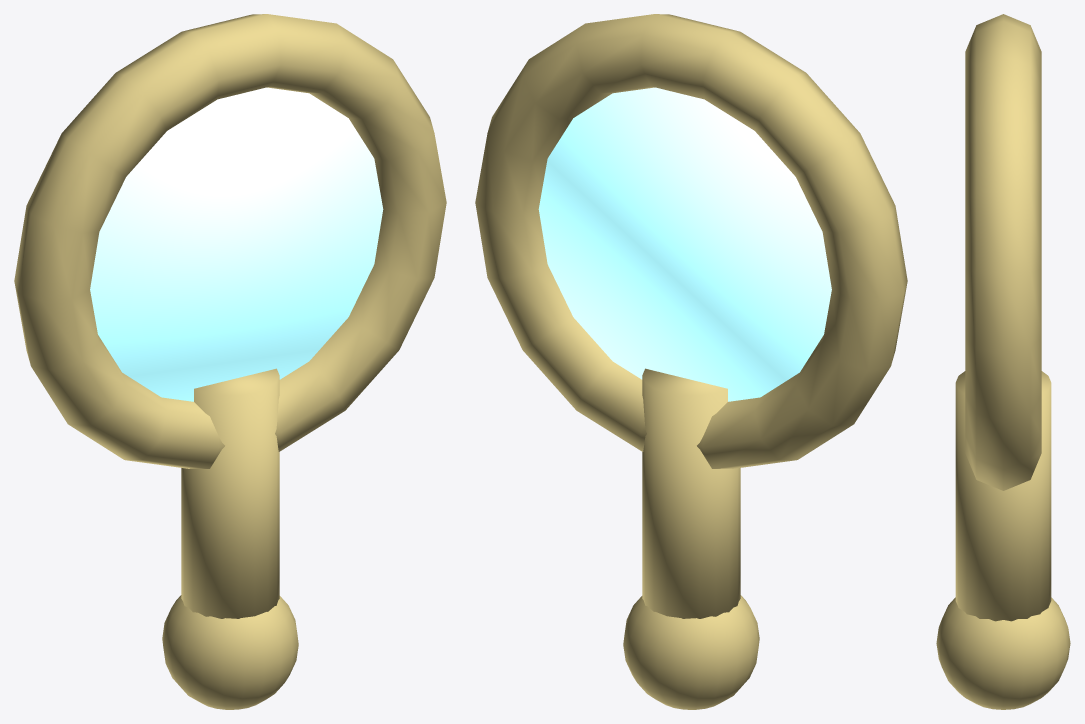
The model's file is Prop_ScanArea.fbx.
The picture shows the model from 3 angles, left to right: view 1: azimuth 30°, elevation 25°; view 2: azimuth 150°, elevation 25°; view 3: azimuth 270°, elevation 25°; orthographic projection. The views are drawn at different scales.
Visible parts, largest first — view 1: Prop_ScanArea; view 2: Prop_ScanArea; view 3: Prop_ScanArea.
Boxes of the visible parts, box(x1,y1,x2,y2) form: Prop_ScanArea: box(14, 14, 446, 709); Prop_ScanArea: box(475, 14, 907, 709); Prop_ScanArea: box(936, 14, 1070, 709).
Size of the model in its own units: 10 by 15.32 by 2.8.
